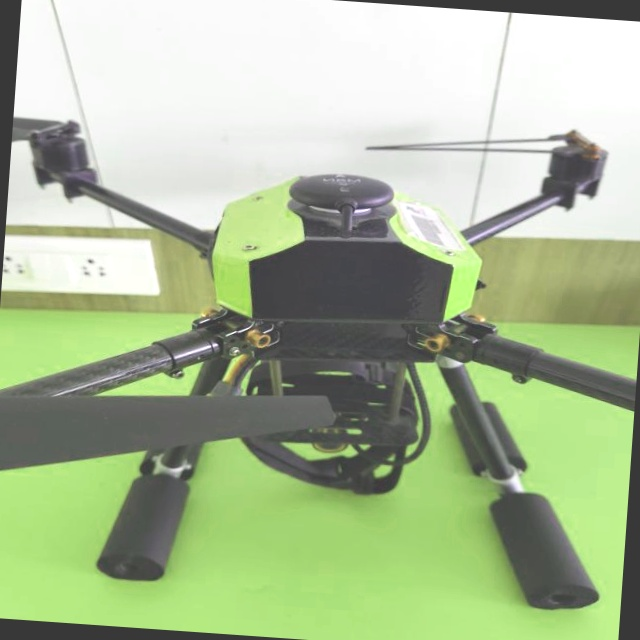quadcopter: (0, 79, 640, 624)
